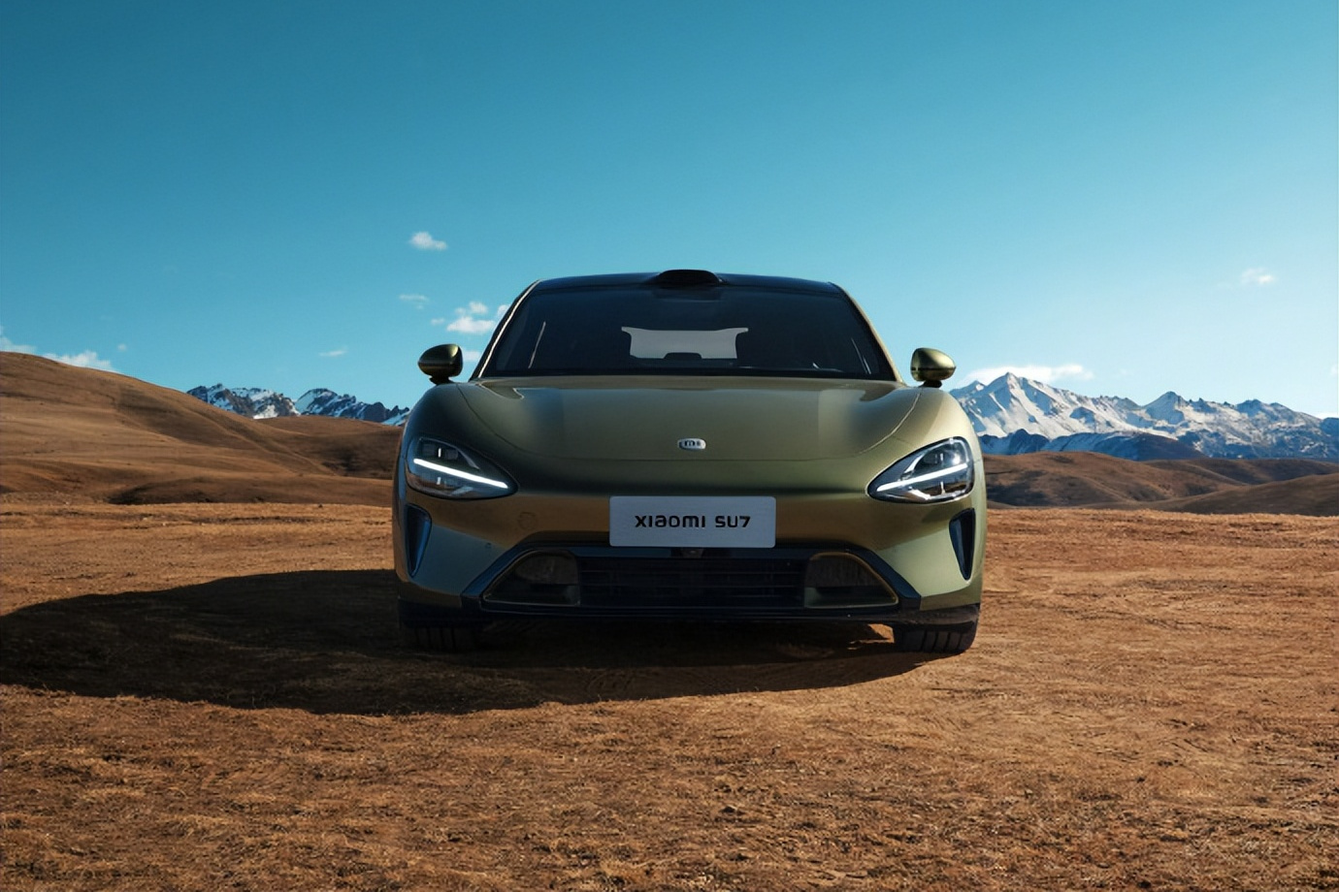su7: (402, 263, 989, 651)
